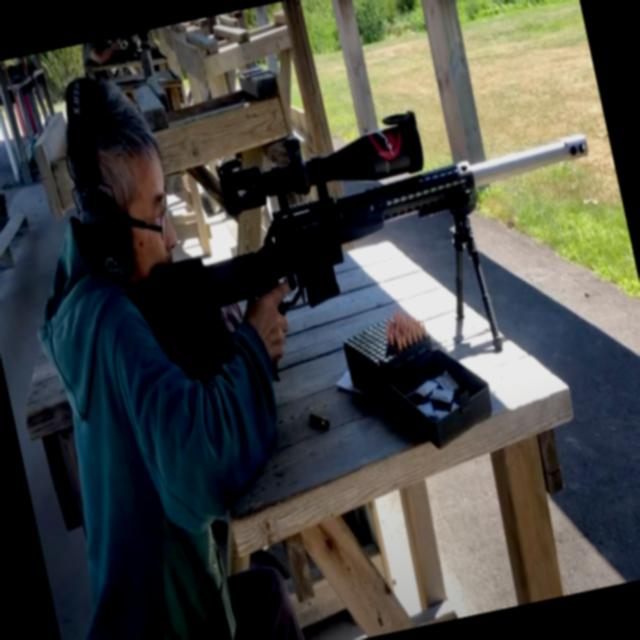rifle: (89, 74, 632, 452)
